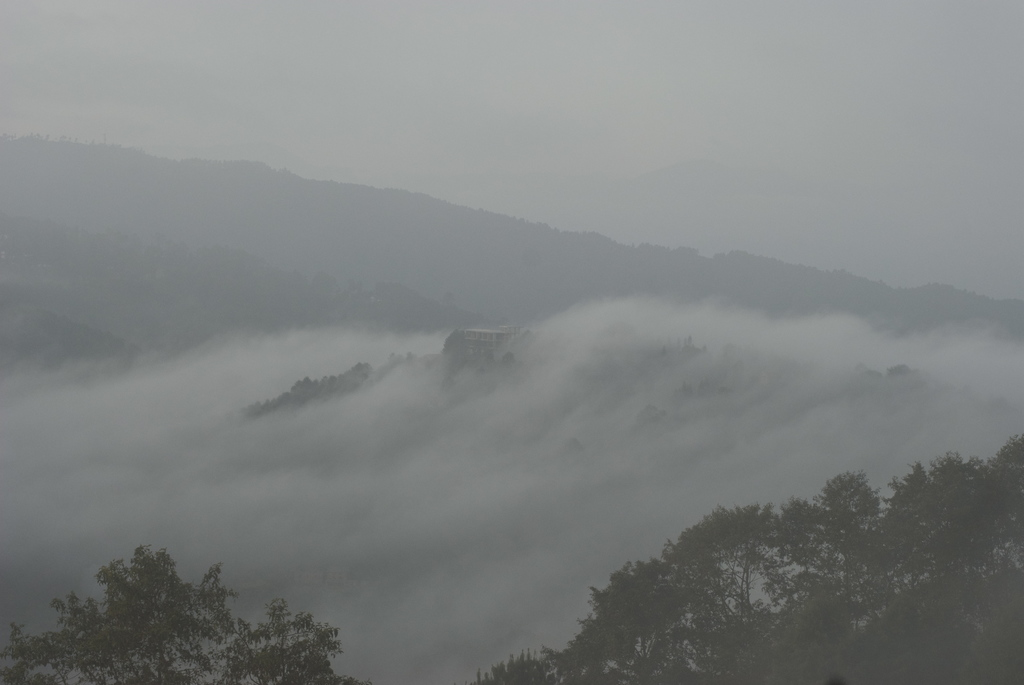Tree: (0, 432, 1024, 685)
